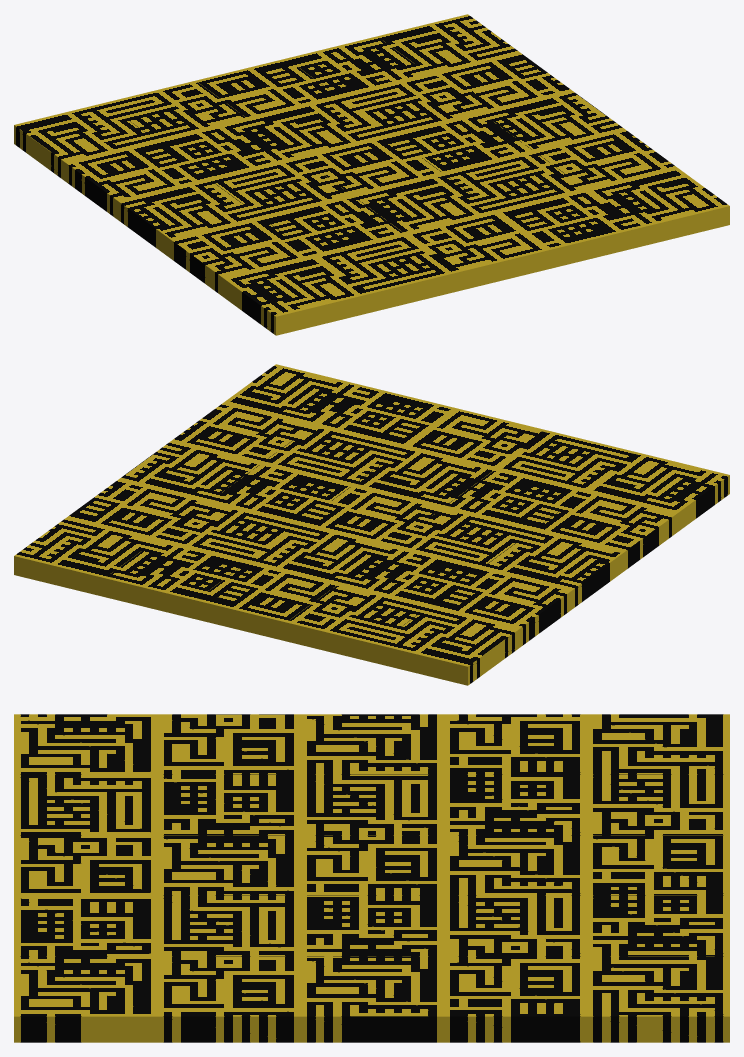
File: techfloor_five-convcol.gltf
3 views of the same model, one above another, from view 1: azimuth 30°, elevation 25°; view 2: azimuth 150°, elevation 25°; view 3: azimuth 270°, elevation 25° (orthographic). The views are drawn at different scales.
Visible parts, largest first — view 1: techfloor_five-convcol; view 2: techfloor_five-convcol; view 3: techfloor_five-convcol.
Part boxes in pixels (x1,y1,x2,y2): techfloor_five-convcol: (14,14,729,335); techfloor_five-convcol: (14,364,729,685); techfloor_five-convcol: (14,714,729,1042).
Bounding box in the file's own units: 5 × 0.2 × 5.
1 material, 1 textured.
